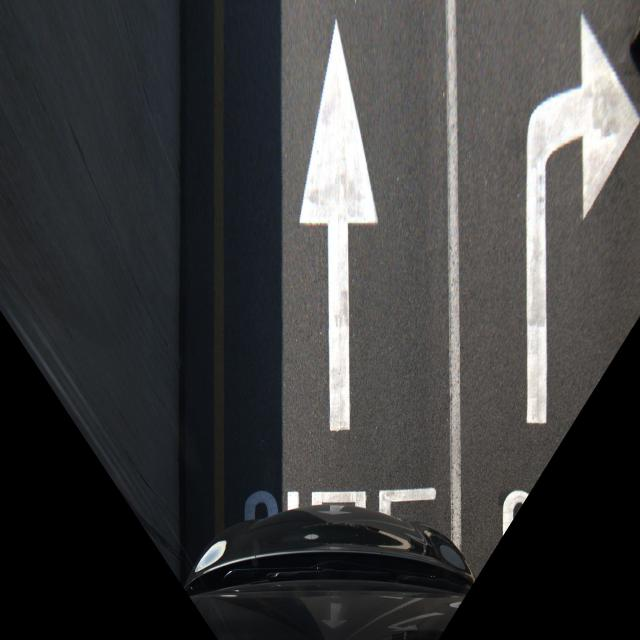right: (439, 0, 640, 423)
